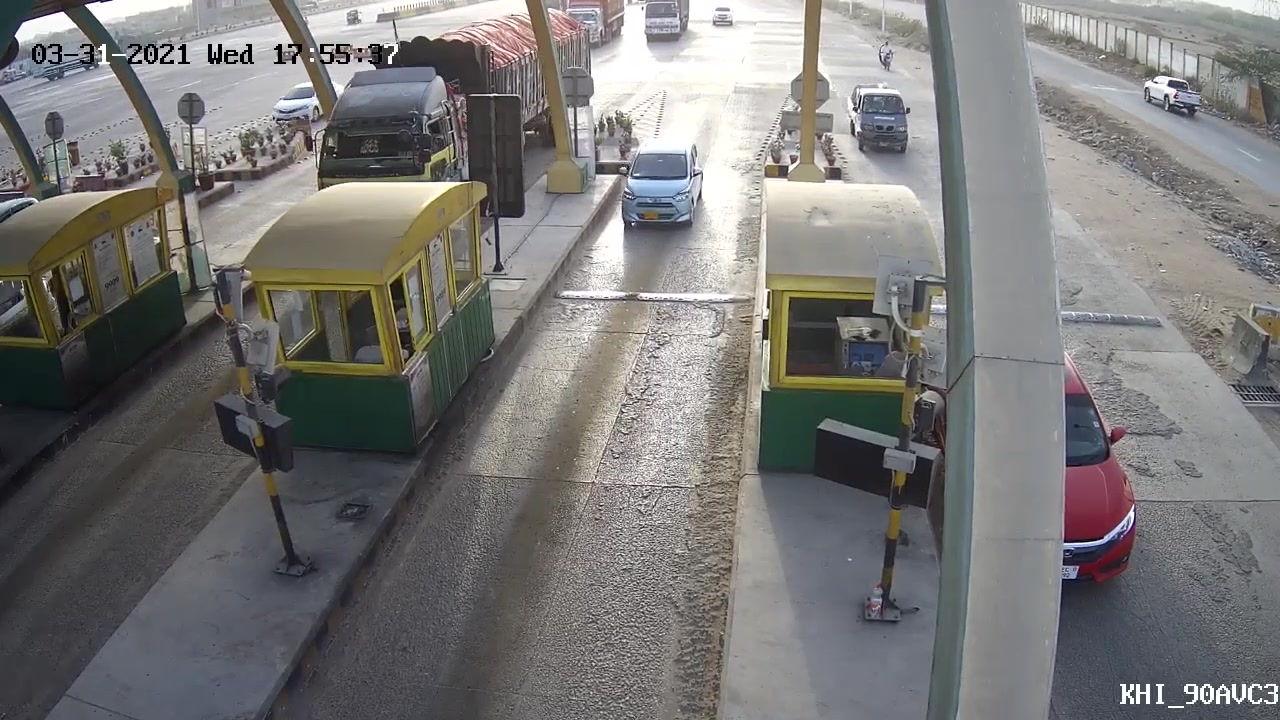F1: (610, 139, 714, 232)
